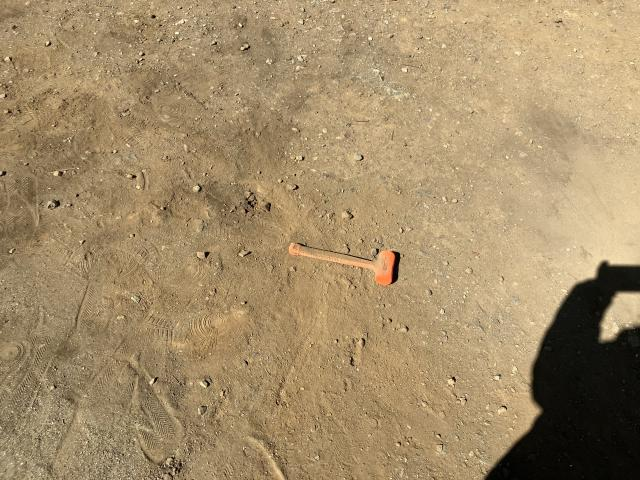hammer: (288, 240, 397, 286)
